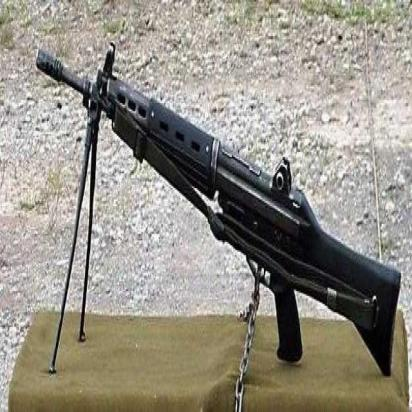Gun: (34, 37, 406, 381)
